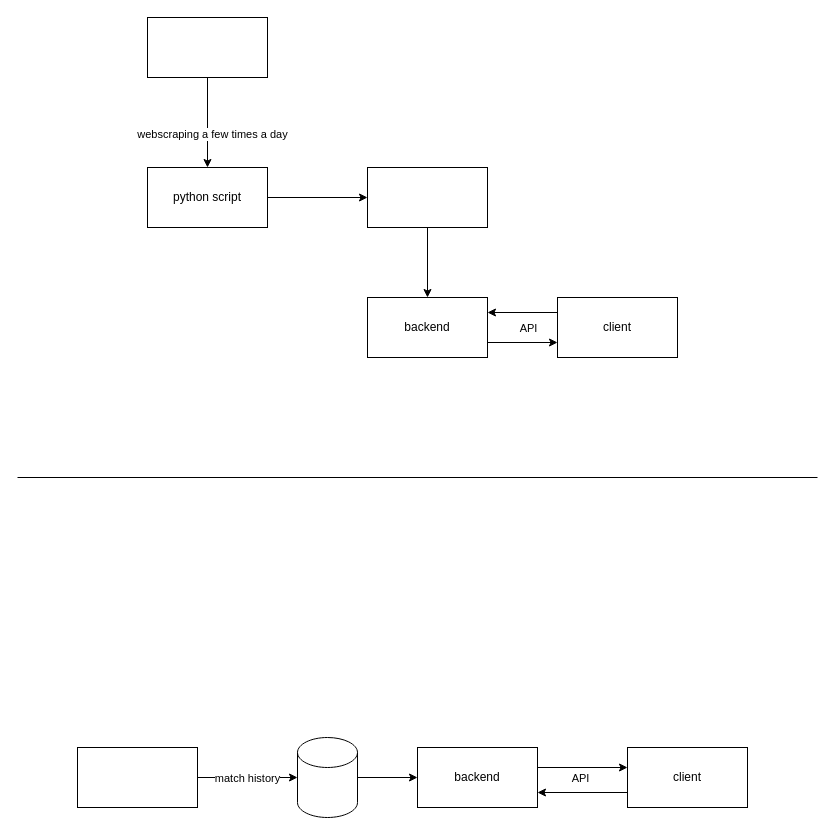
The diagram is 836 pixels wide and 835 high, and some of its shapes have lost their labels. Each missing label, with the centre of its shape:
masteringRuneterra: point (207, 47)
spider+APIcalls: point (137, 777)
supabase S3 JSON of processed Data: point (427, 197)
